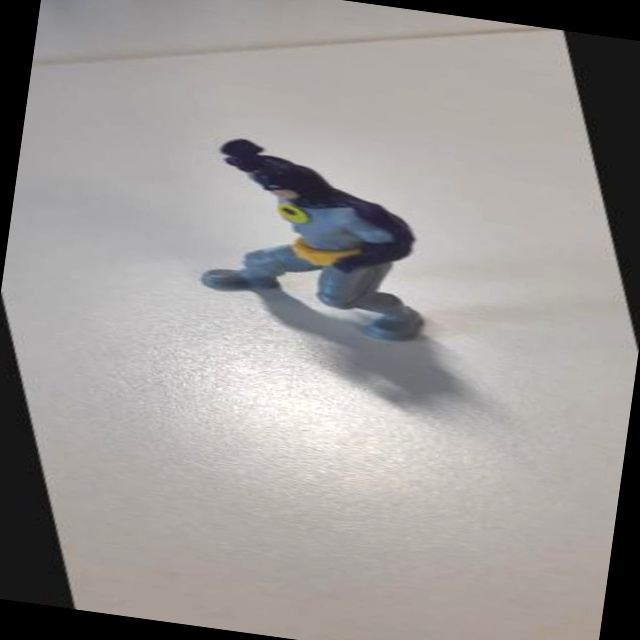Batman: (138, 100, 495, 370)
